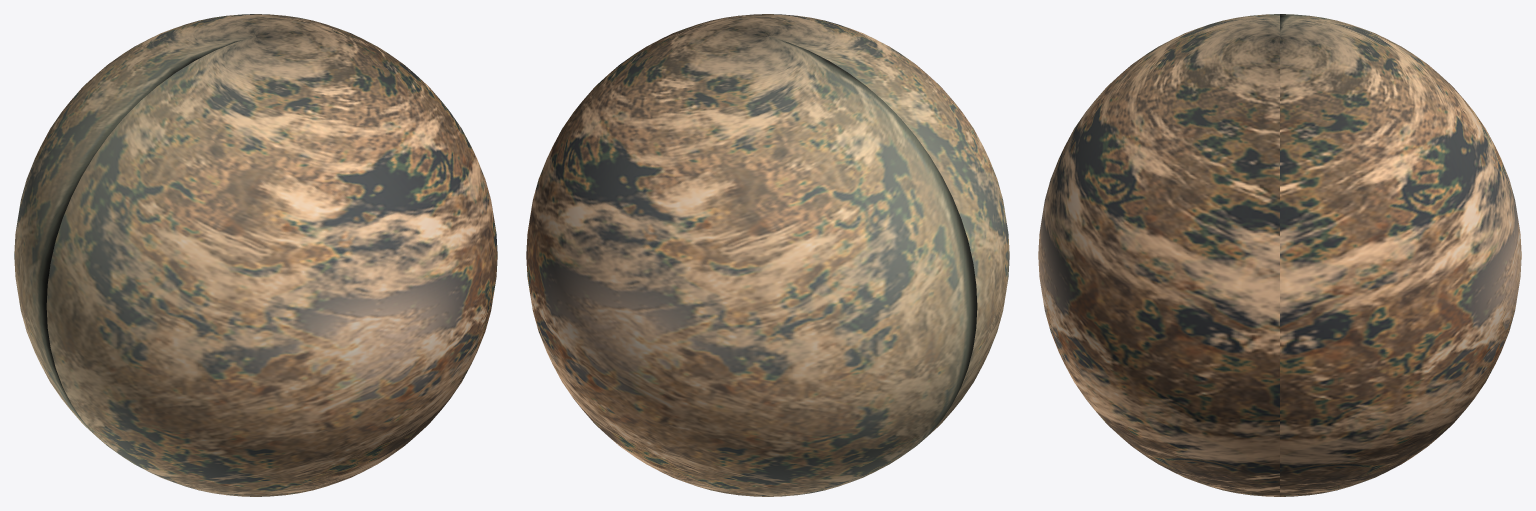
The model's file is Trappist_1e.glb.
3 views of the same model, side by side, from view 1: azimuth 30°, elevation 25°; view 2: azimuth 150°, elevation 25°; view 3: azimuth 270°, elevation 25° (orthographic).
Parts seen in each view (by area): view 1: Trappise_1e; view 2: Trappise_1e; view 3: Trappise_1e.
Part boxes in pixels (x1,y1,x2,y2): Trappise_1e: [14, 14, 497, 496]; Trappise_1e: [526, 14, 1009, 496]; Trappise_1e: [1038, 14, 1521, 496].
Size of the model in its own units: 8 by 8 by 8.
Materials: 1 (1 with a texture image).
